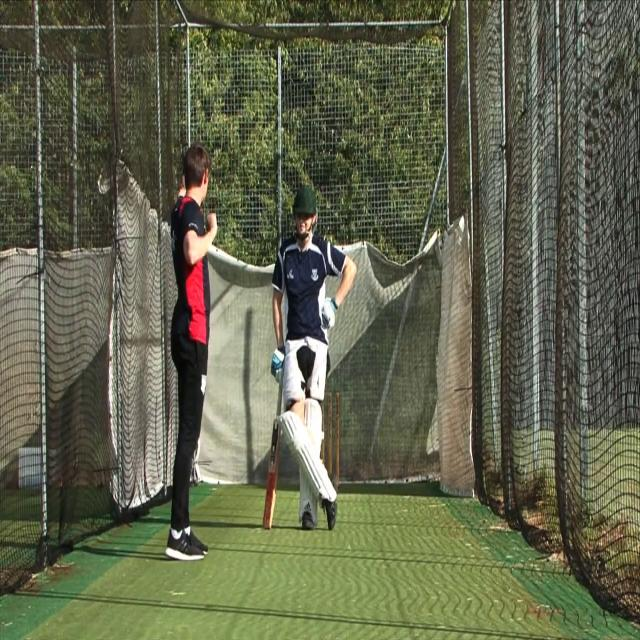batsman: (261, 182, 359, 533)
